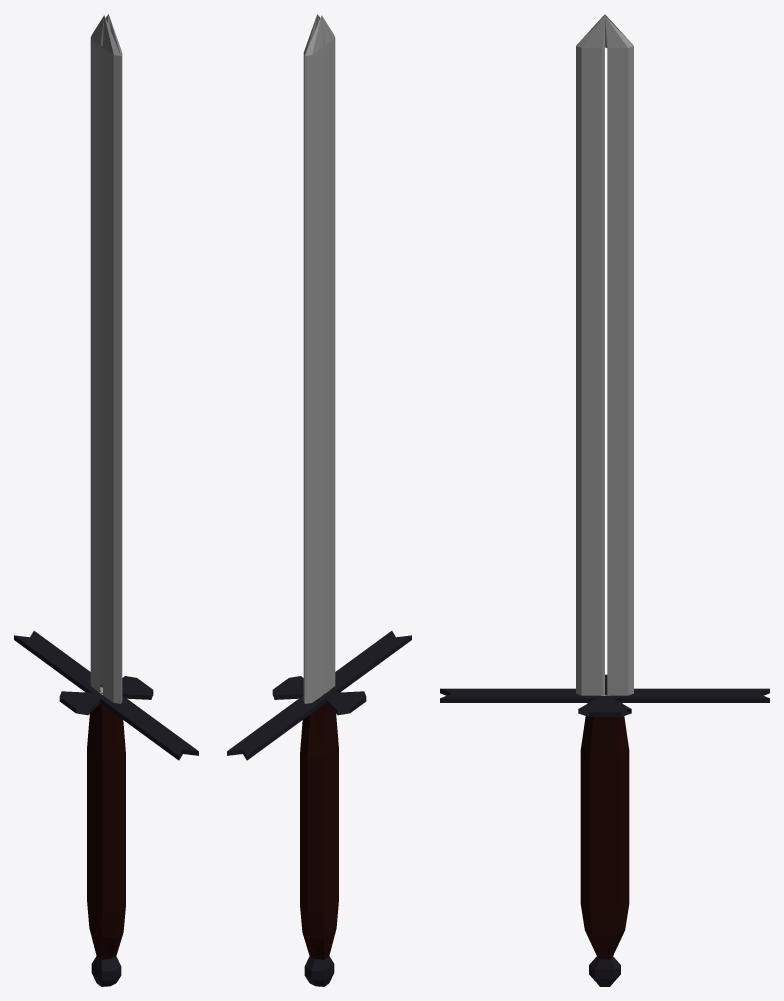
Rendered from Sword.obj.
The picture shows the model from 3 angles, left to right: view 1: azimuth 30°, elevation 25°; view 2: azimuth 150°, elevation 25°; view 3: azimuth 270°, elevation 25°; orthographic projection.
Parts seen in each view (by area): view 1: Blade_Cube.001, Grip_Cube, Crossguard_Cube.002, Pommel_Cube.001; view 2: Blade_Cube.001, Grip_Cube, Crossguard_Cube.002, Pommel_Cube.001; view 3: Blade_Cube.001, Grip_Cube, Crossguard_Cube.002, Pommel_Cube.001.
Boxes of the visible parts, x1,y1,x2,y2 form: Blade_Cube.001: (90,14,122,703); Grip_Cube: (87,703,125,959); Crossguard_Cube.002: (14,631,198,760); Pommel_Cube.001: (91,956,121,986); Blade_Cube.001: (303,14,335,703); Grip_Cube: (300,703,338,959); Crossguard_Cube.002: (227,631,411,760); Pommel_Cube.001: (304,956,334,986); Blade_Cube.001: (576,14,633,695); Grip_Cube: (580,703,629,959); Crossguard_Cube.002: (440,674,769,716); Pommel_Cube.001: (589,956,620,986).
Size of the model in its own units: 0.9002 by 10.76 by 3.32.
